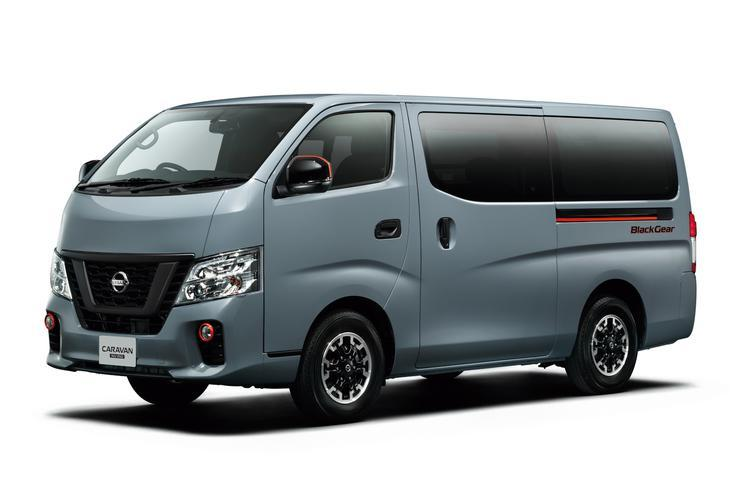van: (53, 90, 702, 402)
